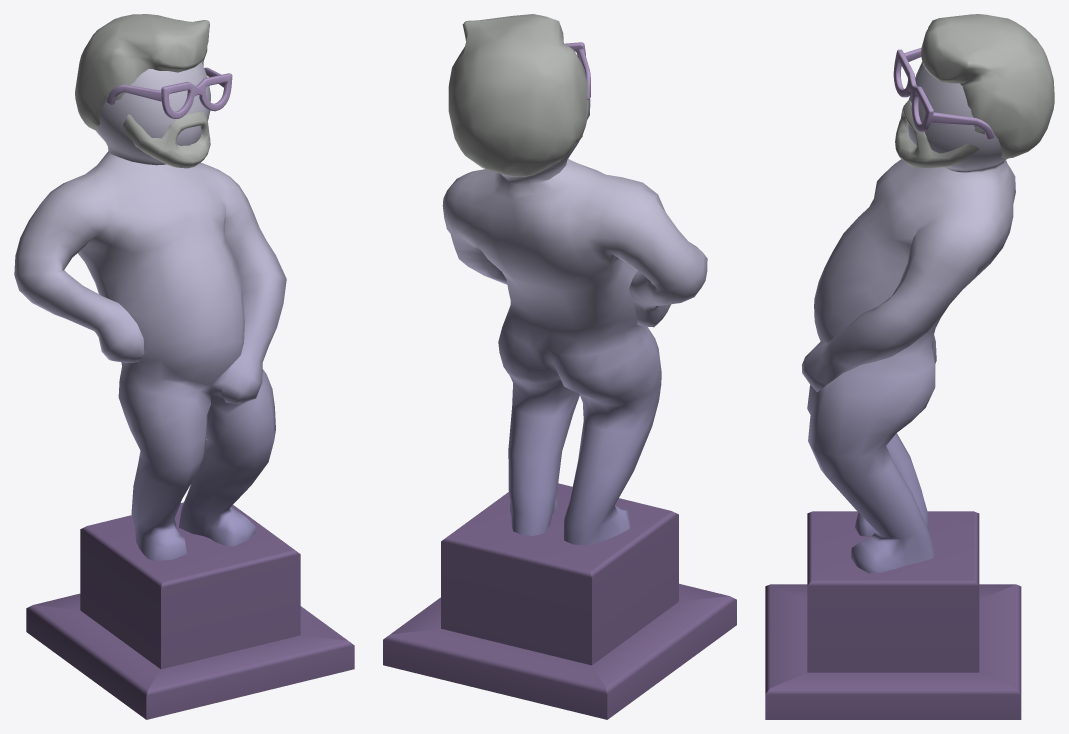
File: Tuongdaibay.fbx
The picture shows the model from 3 angles, left to right: view 1: azimuth 30°, elevation 25°; view 2: azimuth 150°, elevation 25°; view 3: azimuth 270°, elevation 25°; orthographic projection. The views are drawn at different scales.
Parts seen in each view (by area): view 1: Tuongdaibay; view 2: Tuongdaibay; view 3: Tuongdaibay.
Boxes of the visible parts, x1=… form: Tuongdaibay: x1=14, y1=14, x2=354, y2=719; Tuongdaibay: x1=383, y1=14, x2=736, y2=719; Tuongdaibay: x1=765, y1=14, x2=1054, y2=719.
Size of the model in its own units: 108 by 243 by 99.42.
